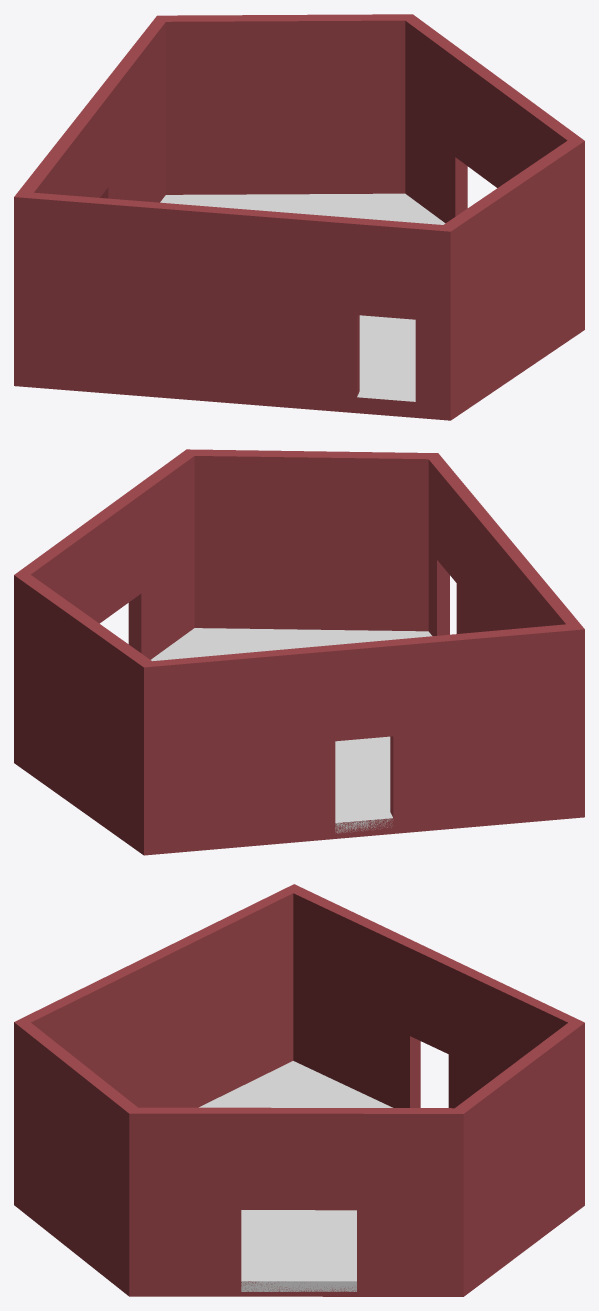
3 renders of one model, top to bottom at view 1: azimuth 30°, elevation 25°; view 2: azimuth 150°, elevation 25°; view 3: azimuth 270°, elevation 25°, orthographic. The views are drawn at different scales.
Parts seen in each view (by area): view 1: Sala 4, Sala 4.001; view 2: Sala 4, Sala 4.001; view 3: Sala 4, Sala 4.001.
Boxes of the visible parts, x1=… form: Sala 4: x1=14, y1=14, x2=584, y2=420; Sala 4.001: x1=160, y1=193, x2=445, y2=401; Sala 4: x1=14, y1=449, x2=584, y2=855; Sala 4.001: x1=151, y1=628, x2=432, y2=833; Sala 4: x1=14, y1=884, x2=584, y2=1296; Sala 4.001: x1=199, y1=1061, x2=392, y2=1291.
Size of the model in its own units: 6523 by 2422 by 6847.
